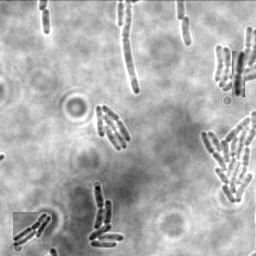Dividing: (123, 1, 142, 95), (232, 51, 245, 97), (41, 8, 52, 35)
Microcolony: (200, 109, 255, 205), (212, 25, 255, 94), (89, 184, 126, 248), (96, 103, 132, 150), (13, 212, 52, 247), (182, 16, 193, 48)
